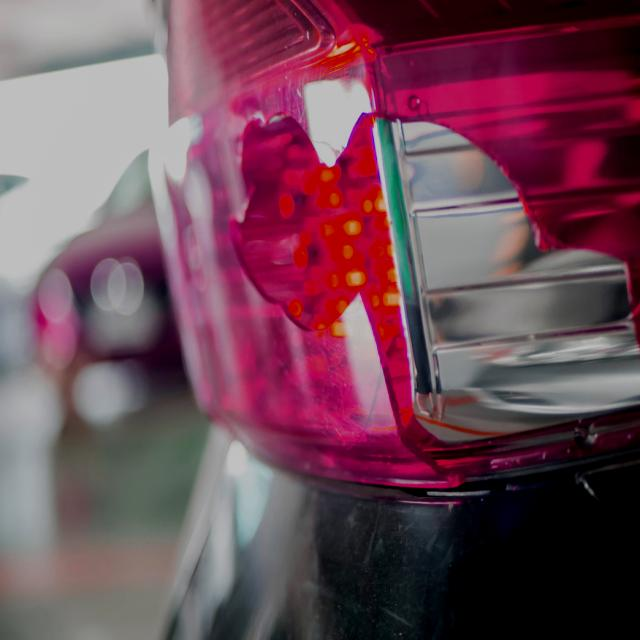Phare abime: (227, 108, 640, 473)
